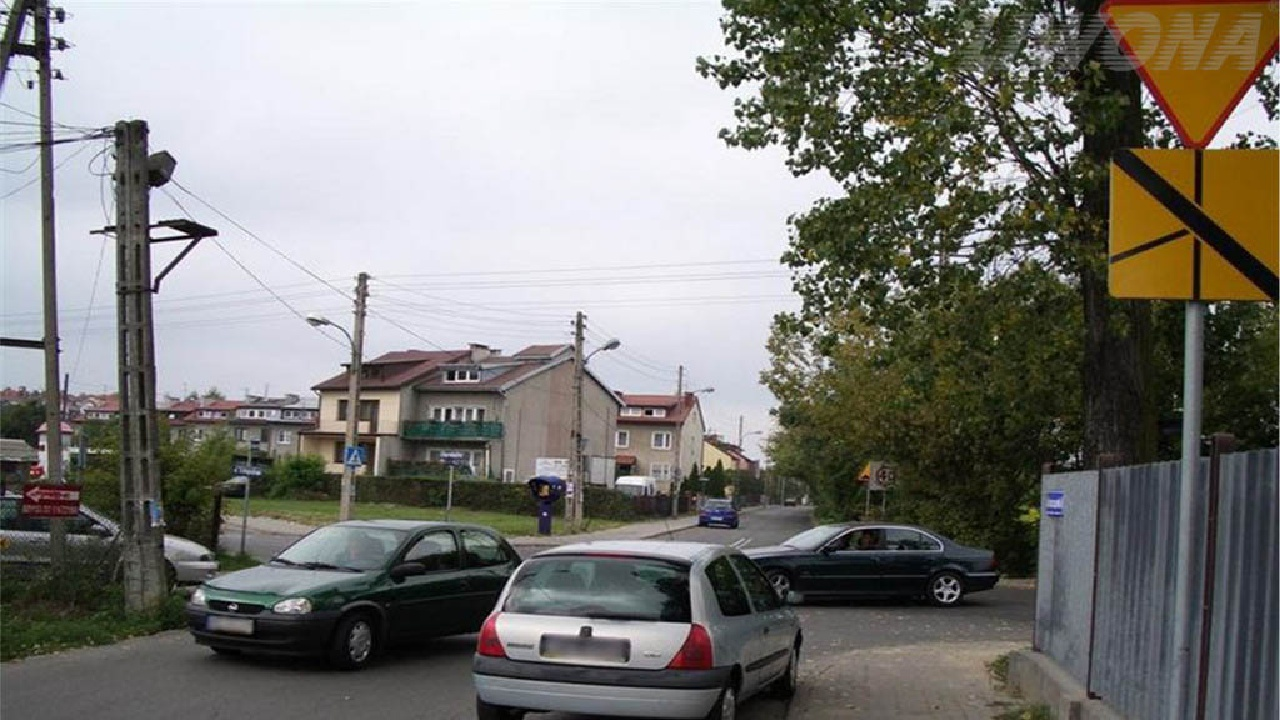A7: (1100, 1, 1280, 149)
